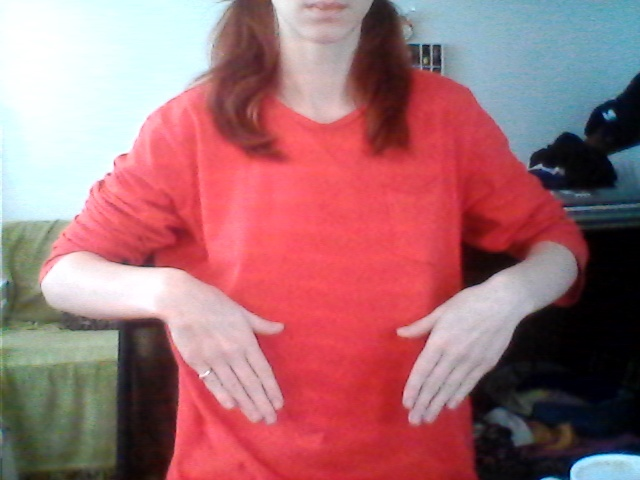zena: (162, 251, 489, 449)
